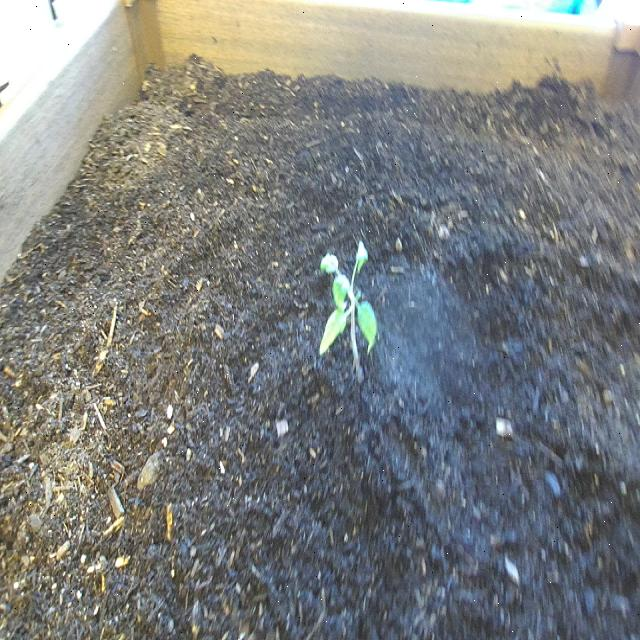Healthy: (318, 240, 379, 386)
